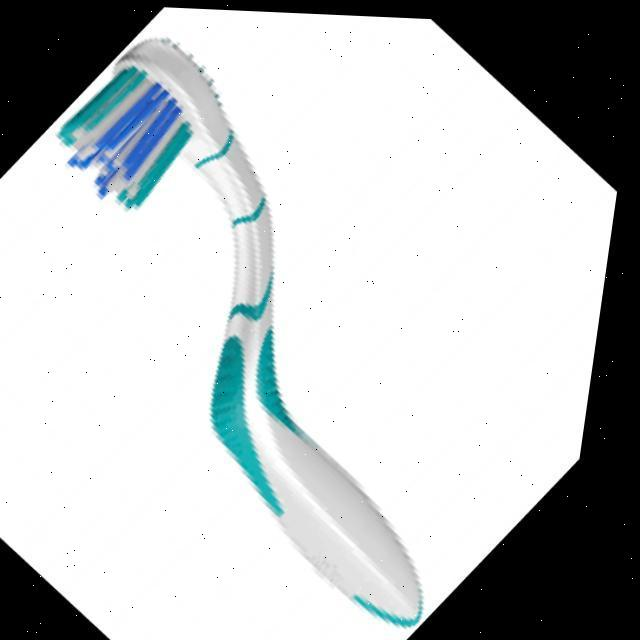toothbrush: (65, 42, 443, 634)
